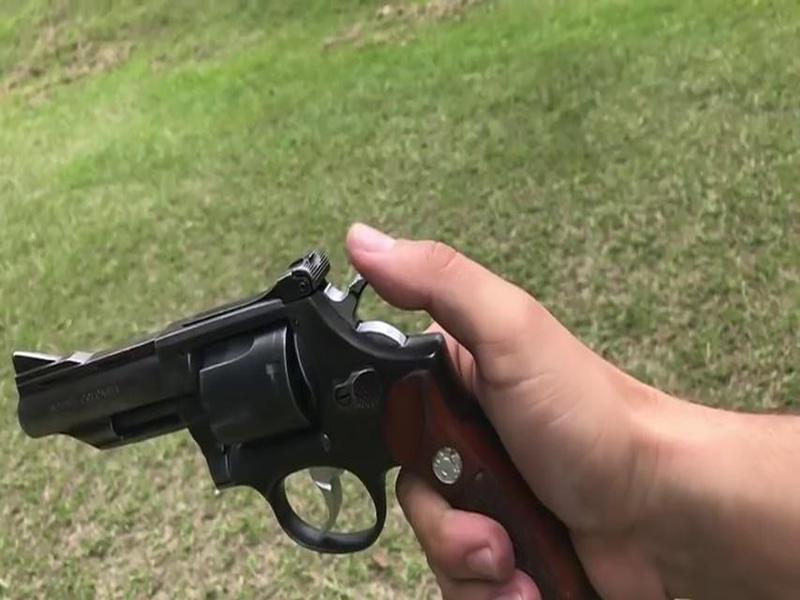Revolver: (49, 251, 627, 600)
